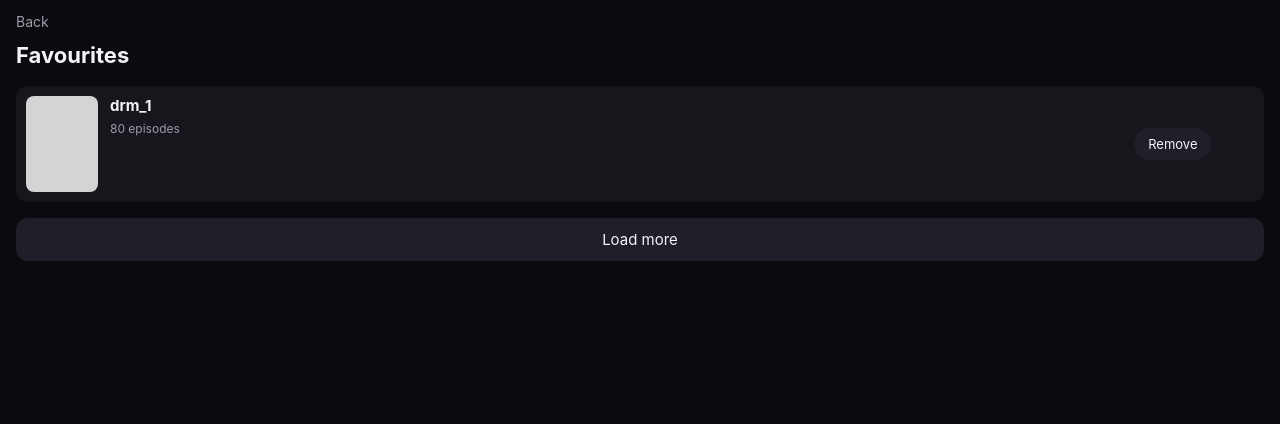
Scenario: paging the list › asks for a session under the rows when a further page answers 401
The width and height of the screenshot is (1280, 424).
Click the button with test id "load-more-favorites" at x=640, y=239, box [16,218,1264,260]
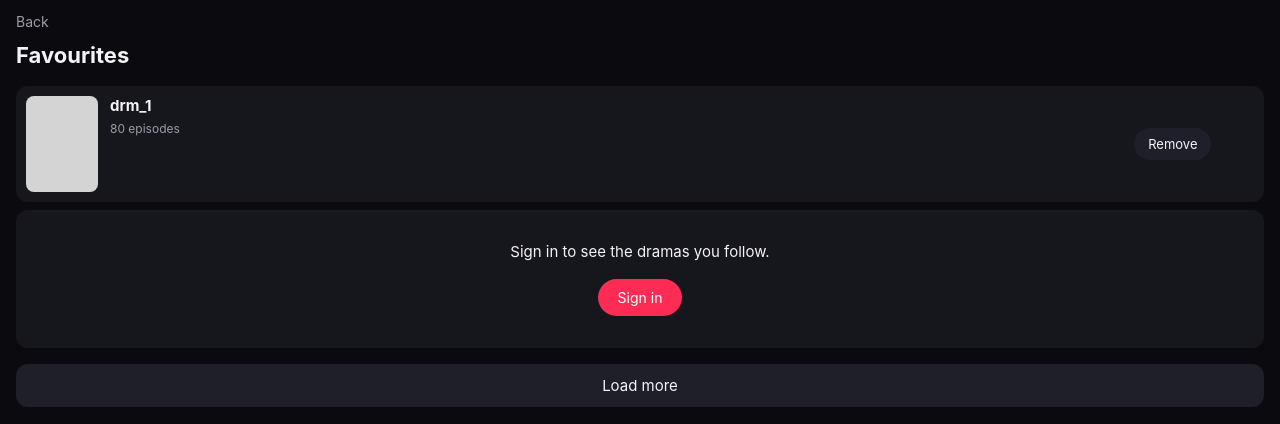
Check: the element with test id "favorites-sign-in-more" is shown, box [16,210,1264,348]
